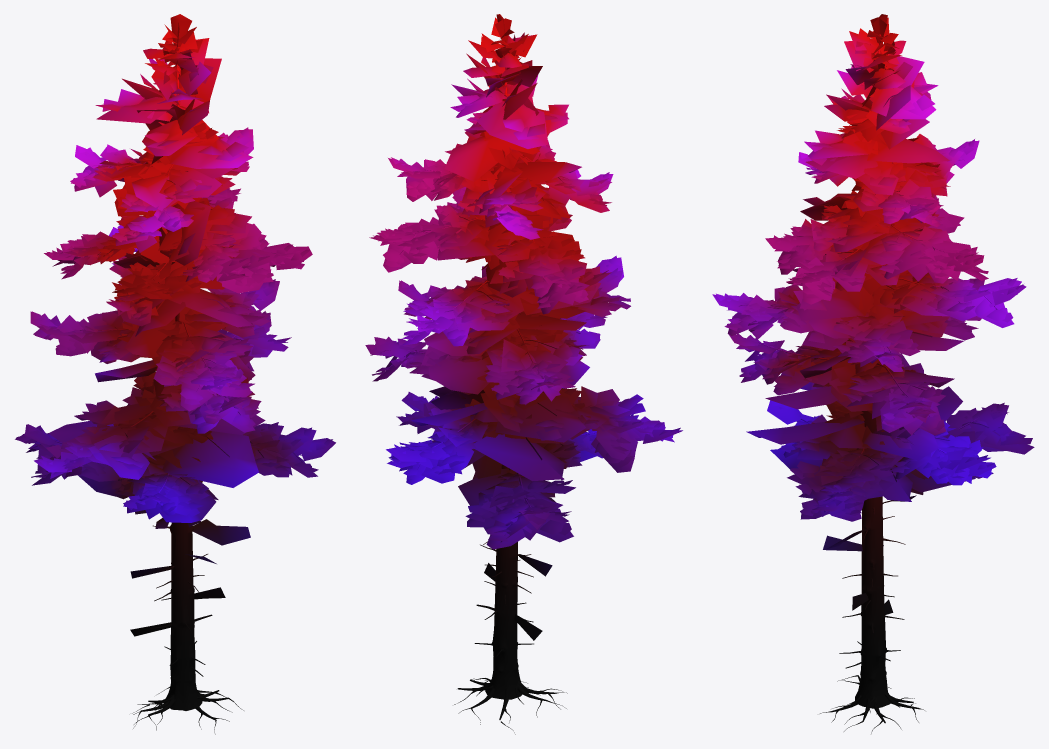
File: Fir_04_Standalone.FBX
3 views of the same model, side by side, from view 1: azimuth 30°, elevation 25°; view 2: azimuth 150°, elevation 25°; view 3: azimuth 270°, elevation 25° (orthographic).
Parts seen in each view (by area): view 1: Fir_04_Standalone_LOD0; view 2: Fir_04_Standalone_LOD0; view 3: Fir_04_Standalone_LOD0.
Boxes of the visible parts, x1,y1,x2,y2 form: Fir_04_Standalone_LOD0: [15, 14, 335, 734]; Fir_04_Standalone_LOD0: [365, 14, 682, 734]; Fir_04_Standalone_LOD0: [712, 14, 1034, 733].
Size of what is drawn, in the model's own units: 8777 by 20488 by 8485.
